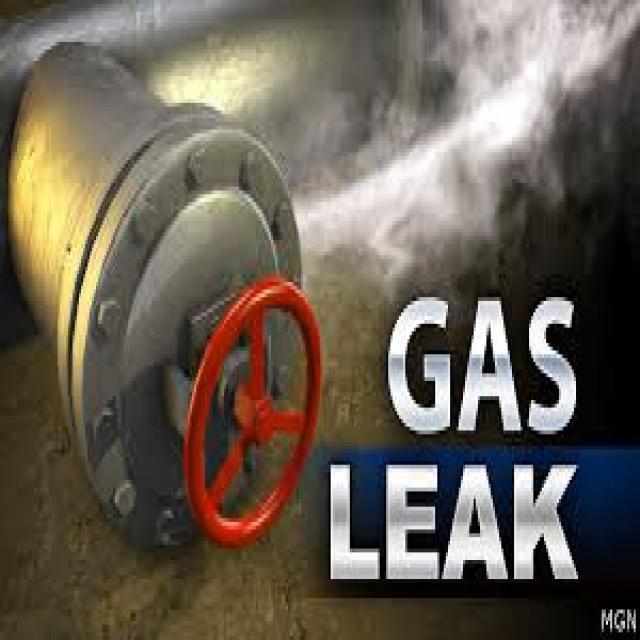corrosion: (187, 118, 497, 304)
